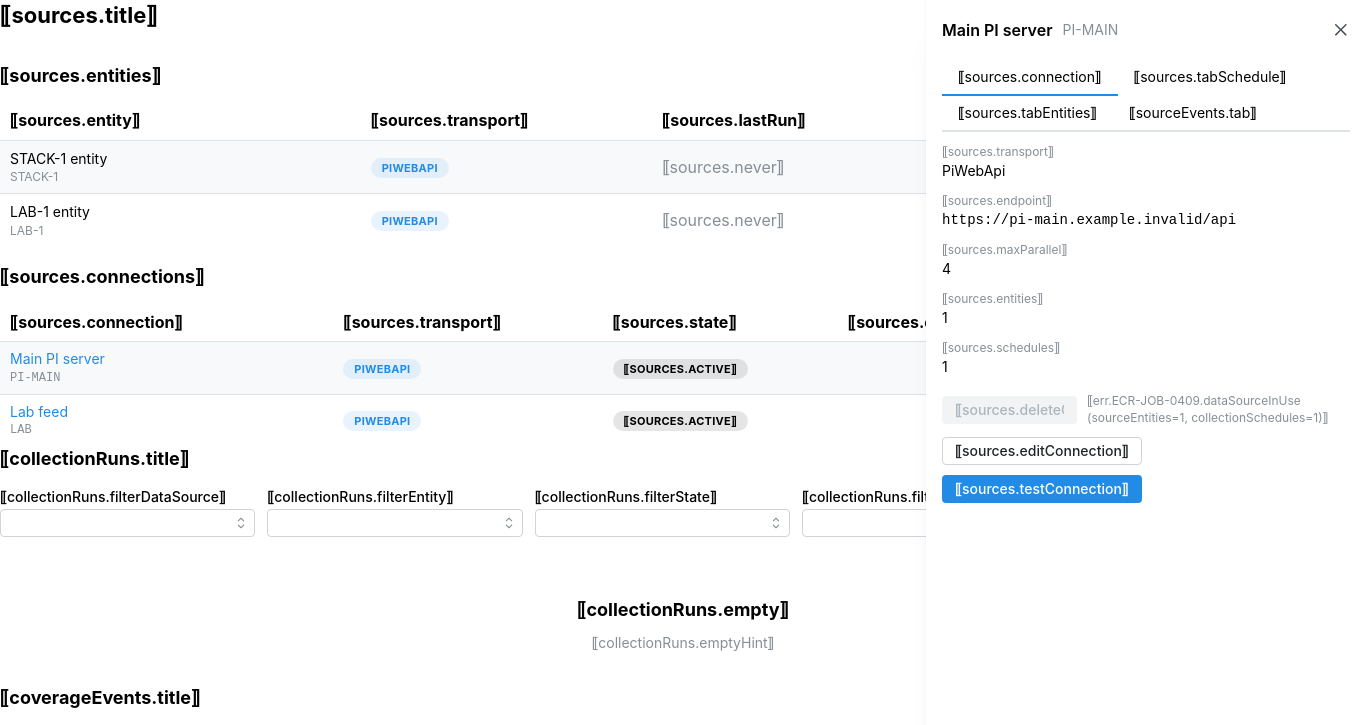
Test case: Шухляда з'єднання: вкладка Schedule › вибір сутності з переліку відкриває редактор її розкладу
Click the tab "⟦sources.tabSchedule⟧": (1210, 78) left=1118, top=60, right=1302, bottom=96
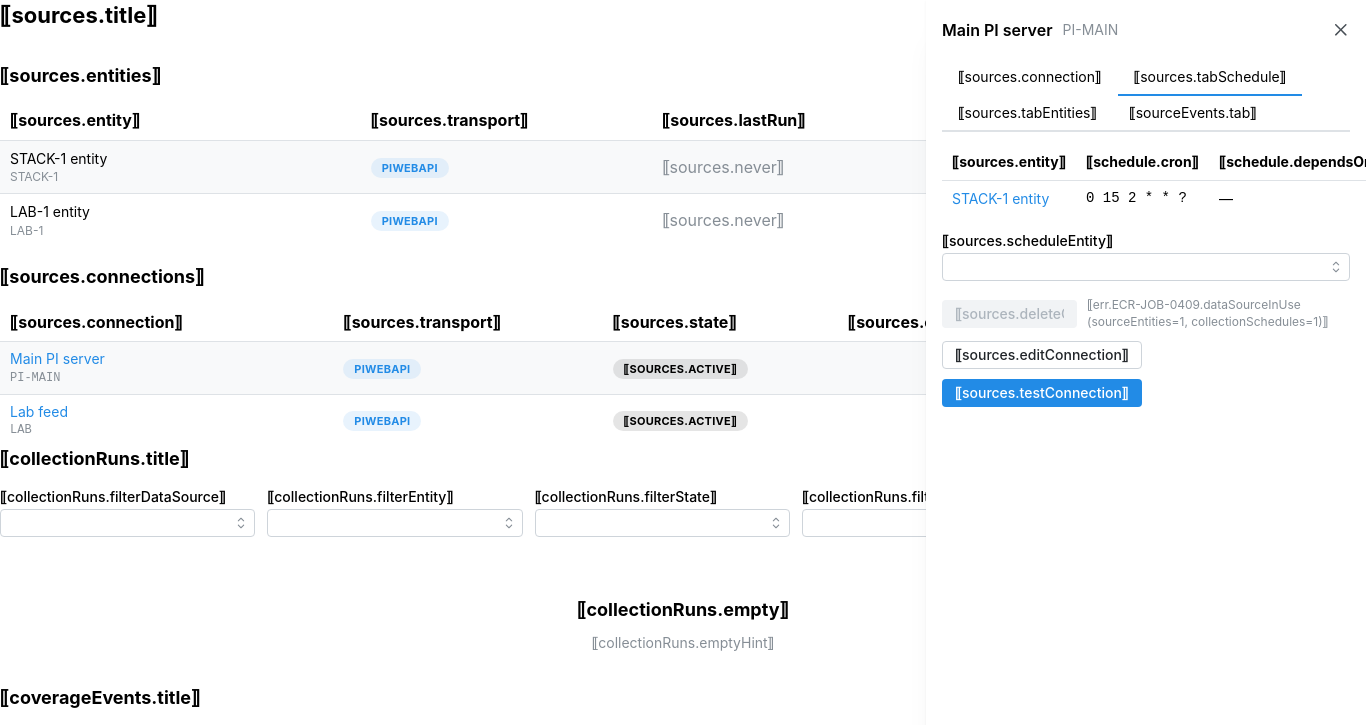
Click the button "STACK-1 entity": (1001, 199) left=952, top=189, right=1049, bottom=209
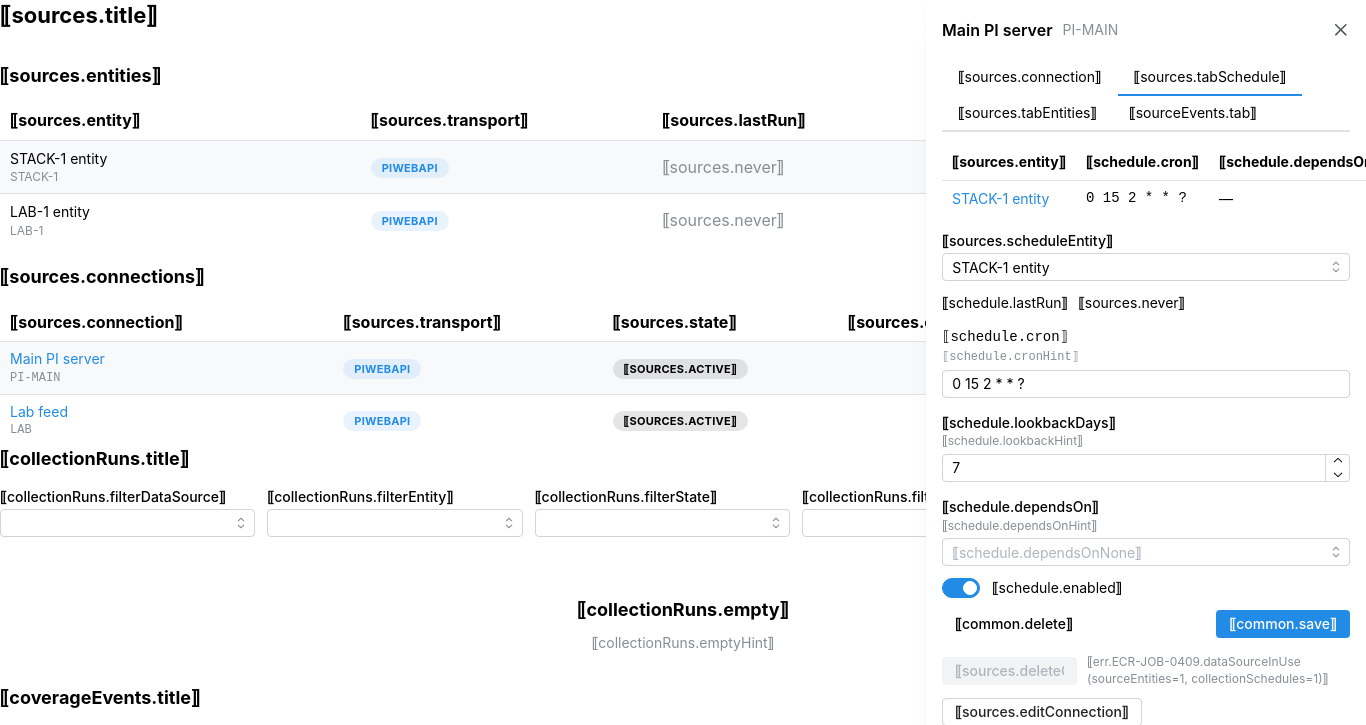
Expected: the field labelled "⟦schedule.cron⟧" holds "0 15 2 * * ?", left=942, top=370, right=1350, bottom=398
